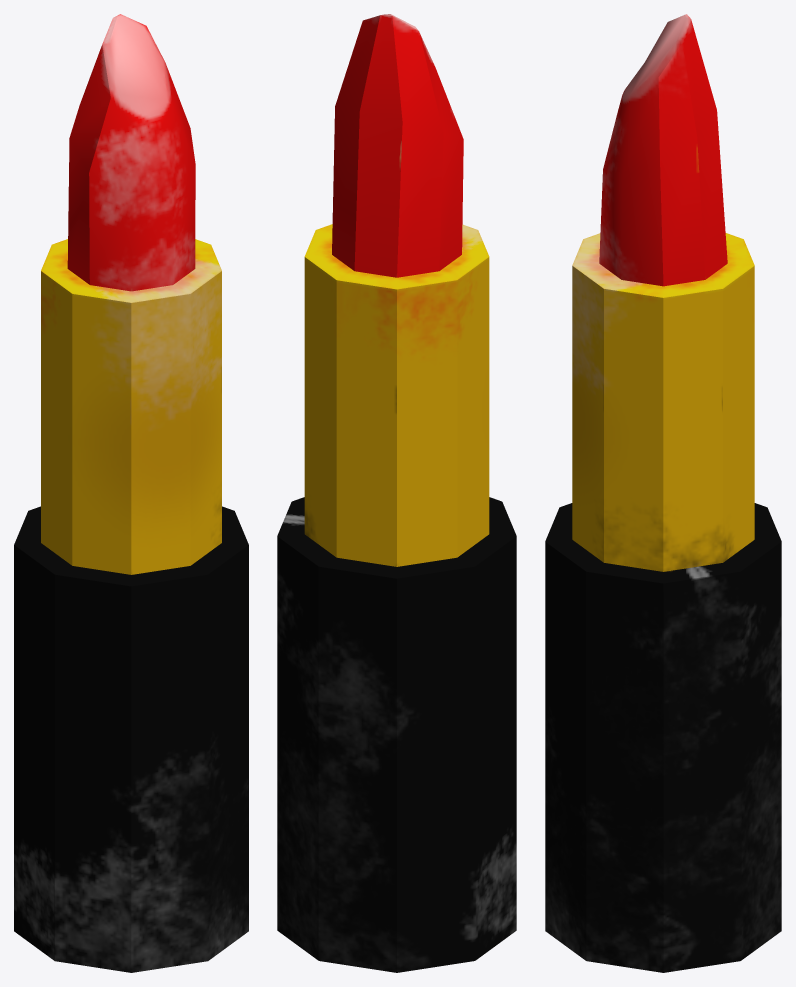
The model's file is lipstick.FBX.
3 renders of one model, left to right at view 1: azimuth 30°, elevation 25°; view 2: azimuth 150°, elevation 25°; view 3: azimuth 270°, elevation 25°, orthographic. The views are drawn at different scales.
Parts seen in each view (by area): view 1: Object005; view 2: Object005; view 3: Object005.
Boxes of the visible parts, x1,y1,x2,y2 form: Object005: [14, 14, 248, 972]; Object005: [277, 14, 516, 972]; Object005: [545, 14, 781, 972].
Bounding box in the file's own units: 77.44 × 332 × 78.63.
